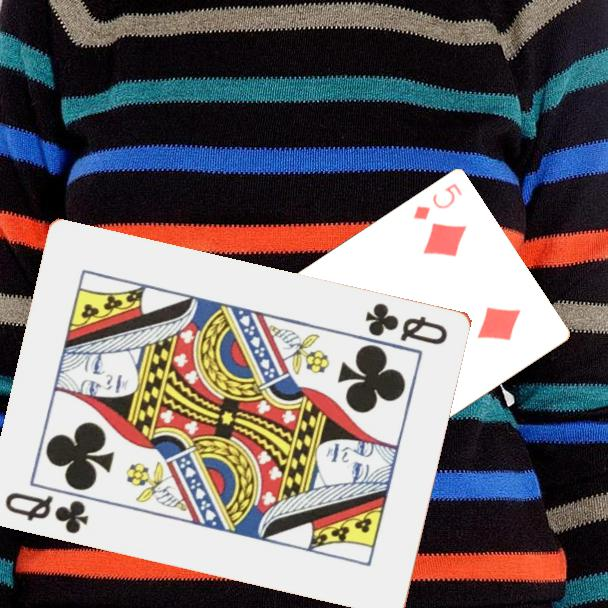c12: (2, 488, 92, 537), (362, 299, 451, 348)
d05: (409, 180, 465, 224)
